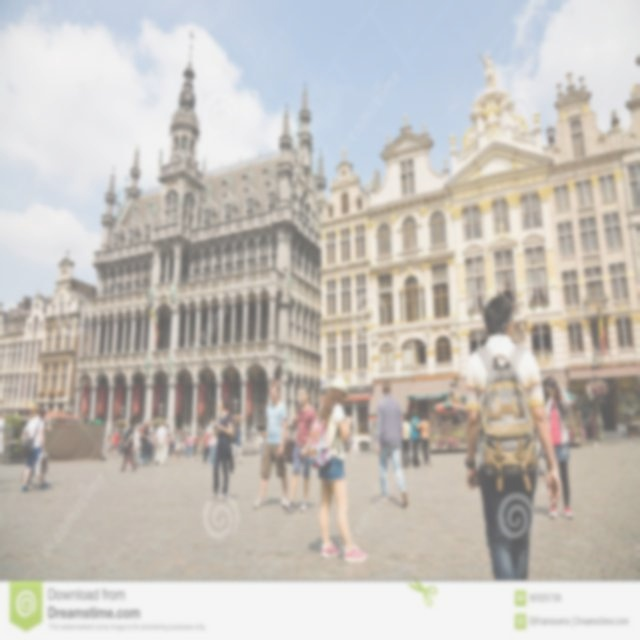pessoa: (464, 292, 564, 580), (110, 115, 320, 222), (306, 374, 369, 566), (251, 382, 291, 509), (280, 382, 318, 514), (373, 379, 411, 510), (544, 375, 576, 520), (207, 396, 234, 503), (18, 406, 52, 489), (19, 404, 51, 492), (410, 410, 432, 468), (283, 270, 295, 376), (478, 48, 501, 102), (143, 280, 180, 312), (140, 350, 176, 382), (119, 417, 137, 472), (152, 420, 168, 468), (409, 410, 421, 468), (400, 412, 411, 469), (206, 416, 218, 468), (138, 418, 150, 466), (132, 423, 143, 468), (193, 424, 206, 461), (232, 421, 243, 464), (344, 424, 356, 458), (146, 421, 155, 466), (586, 407, 598, 440), (442, 410, 464, 426), (172, 426, 181, 464), (0, 409, 7, 456), (202, 430, 210, 464), (112, 428, 120, 458), (166, 432, 174, 459), (170, 430, 177, 460), (112, 428, 119, 458), (185, 432, 193, 458), (191, 432, 200, 455), (254, 431, 261, 456), (118, 432, 125, 457), (258, 432, 265, 456), (179, 436, 187, 456), (106, 436, 113, 458), (284, 430, 292, 446), (262, 431, 268, 446), (444, 354, 452, 364), (230, 442, 234, 454)
